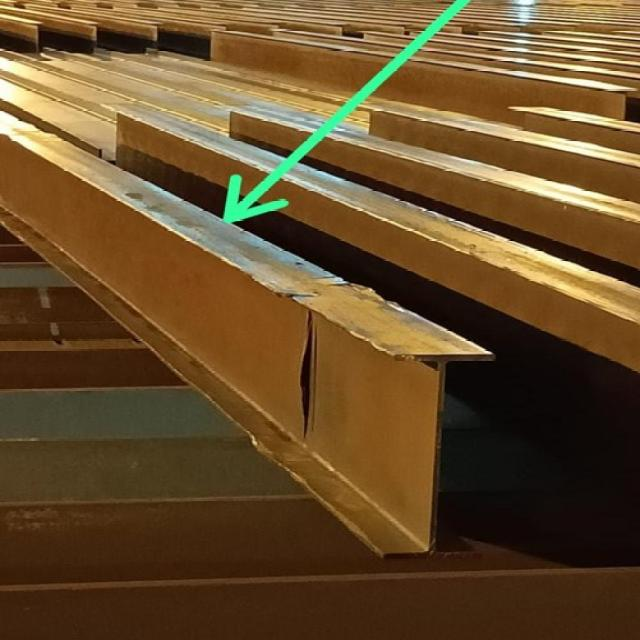defect: (118, 174, 346, 297), (283, 164, 446, 234), (329, 126, 474, 164), (188, 125, 281, 174), (231, 104, 326, 132)
